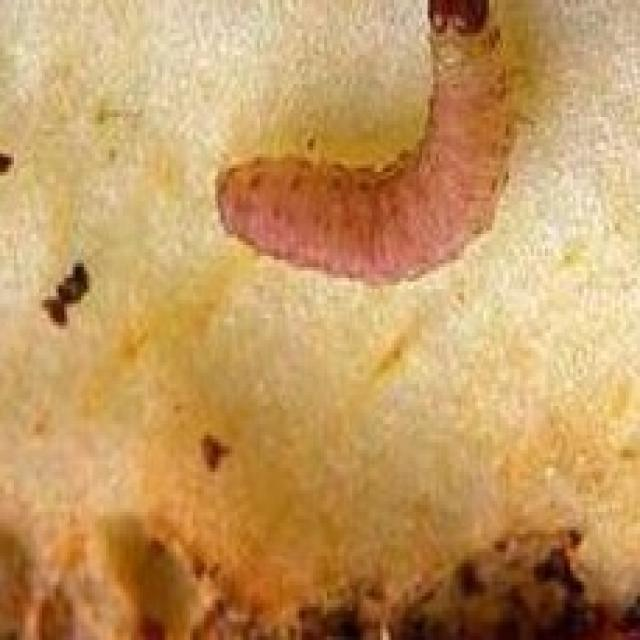peach borer: (215, 1, 525, 294)
